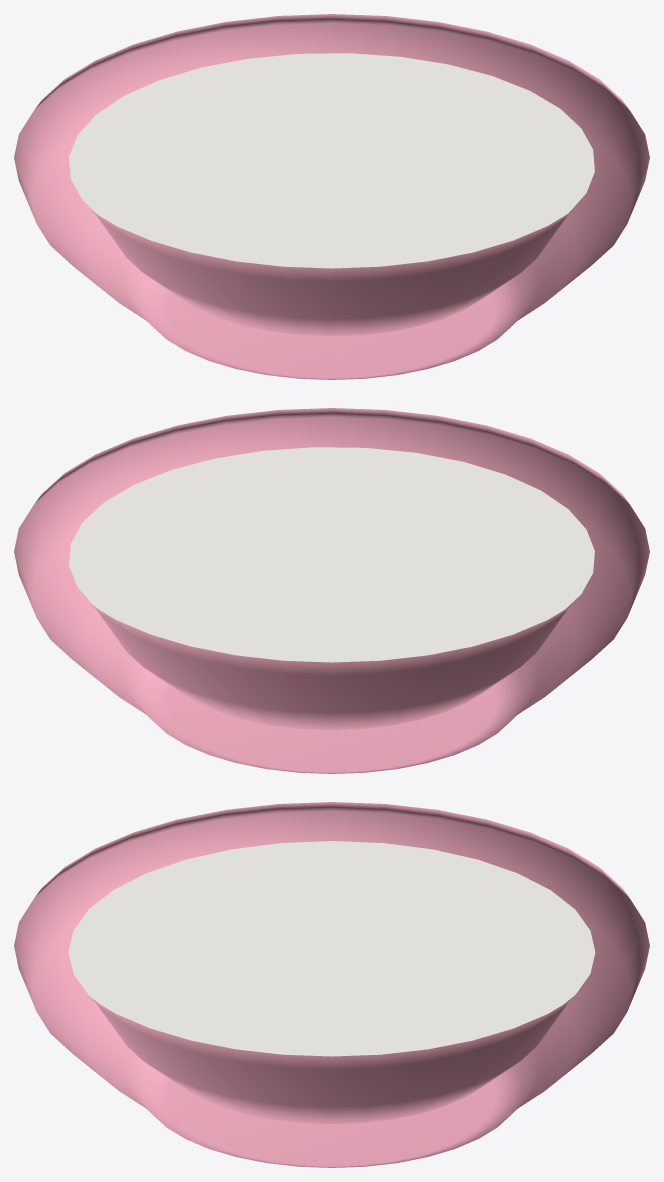
Rendered from milk_dish.glb.
3 renders of one model, top to bottom at view 1: azimuth 30°, elevation 25°; view 2: azimuth 150°, elevation 25°; view 3: azimuth 270°, elevation 25°, orthographic.
Parts seen in each view (by area): view 1: MilkSurface, CeramicBowl; view 2: MilkSurface, CeramicBowl; view 3: MilkSurface, CeramicBowl.
Boxes of the visible parts, x1=… form: MilkSurface: x1=69, y1=53, x2=594, y2=268; CeramicBowl: x1=14, y1=14, x2=649, y2=379; MilkSurface: x1=69, y1=447, x2=594, y2=662; CeramicBowl: x1=14, y1=408, x2=649, y2=773; MilkSurface: x1=68, y1=841, x2=595, y2=1056; CeramicBowl: x1=14, y1=802, x2=649, y2=1167.
Size of the model in its own units: 0.35 by 0.1 by 0.35.
